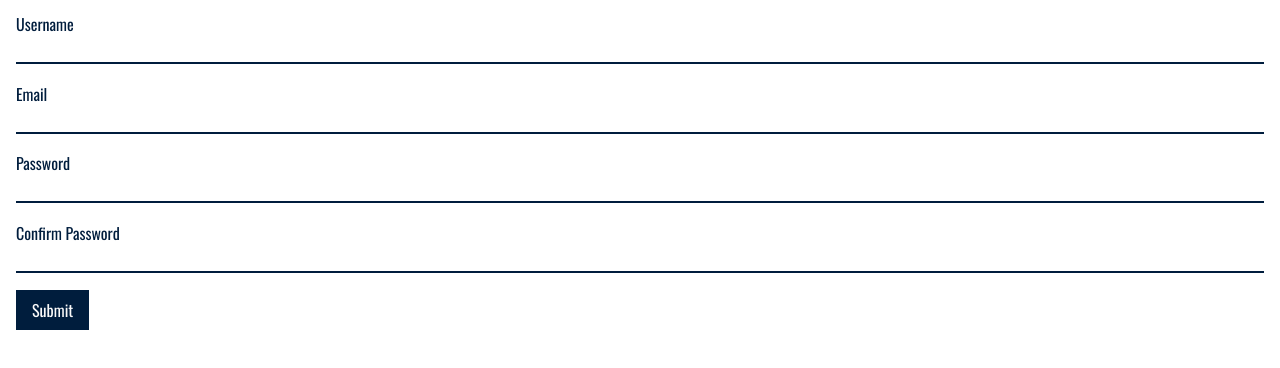
Test: Register Form › should display an error message for a username longer than 30 characters
Type "UserName1UserName1UserName1UserName1" into the field labelled "Username". click: coordinates (640, 51)
box: left=16, top=37, right=1264, bottom=64
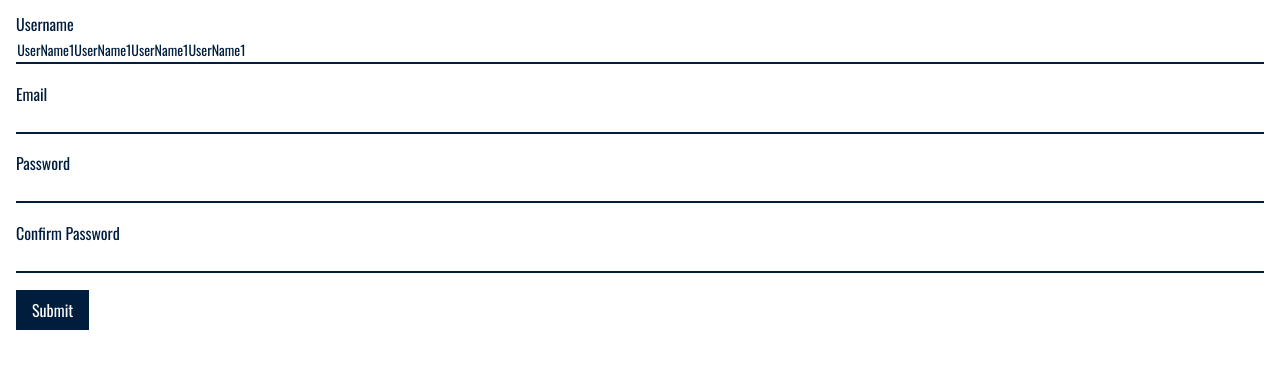
Type "a@a.pl" into the field labelled "Email". click: coordinates (640, 120)
box: left=16, top=107, right=1264, bottom=134
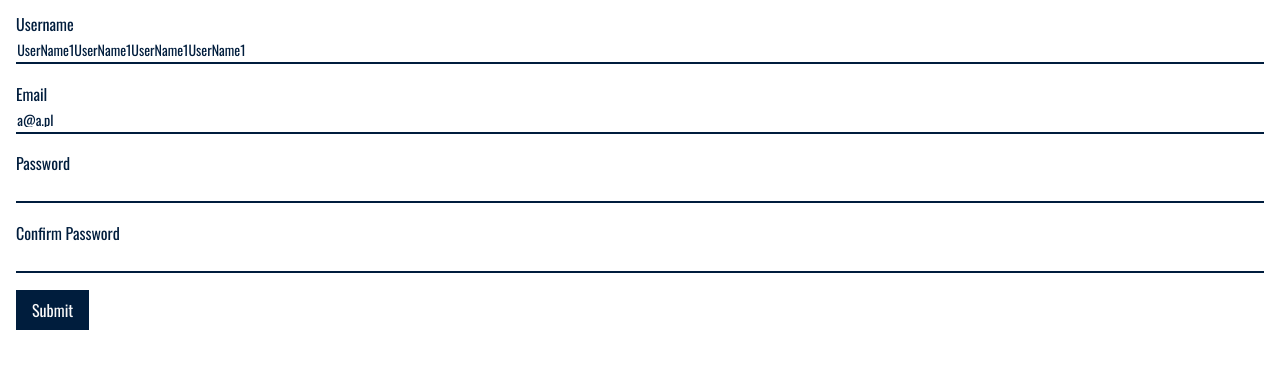
Type "Pa$$w0rd" into the password field labelled "Password". click: coordinates (640, 190)
box: left=16, top=176, right=1264, bottom=203
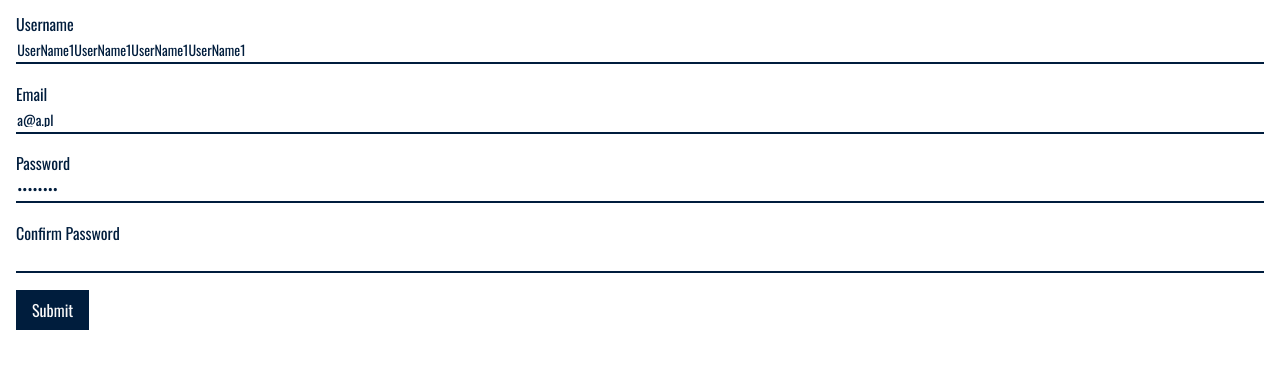
Type "Pa$$w0rd" into the password field labelled "Confirm Password". click: coordinates (640, 259)
box: left=16, top=246, right=1264, bottom=273
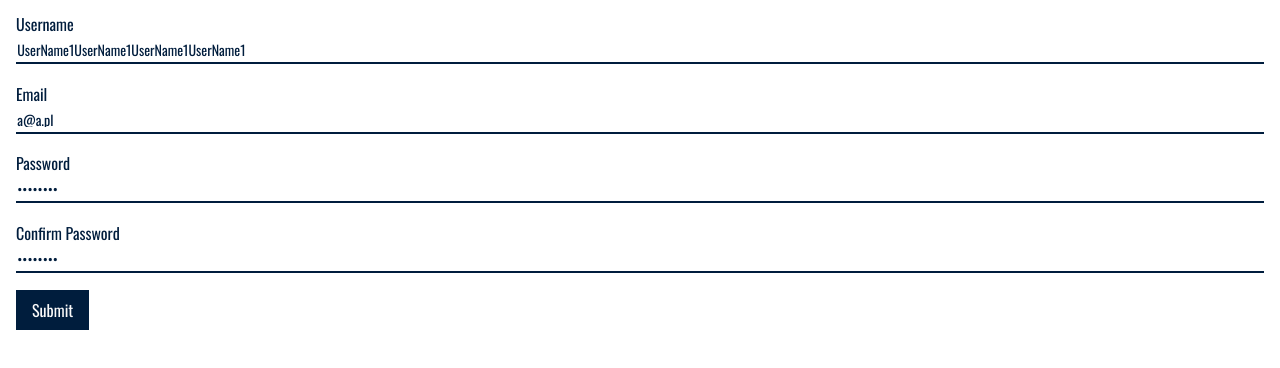
Click the button "Submit". click: coordinates (53, 310)
box: left=16, top=290, right=89, bottom=330
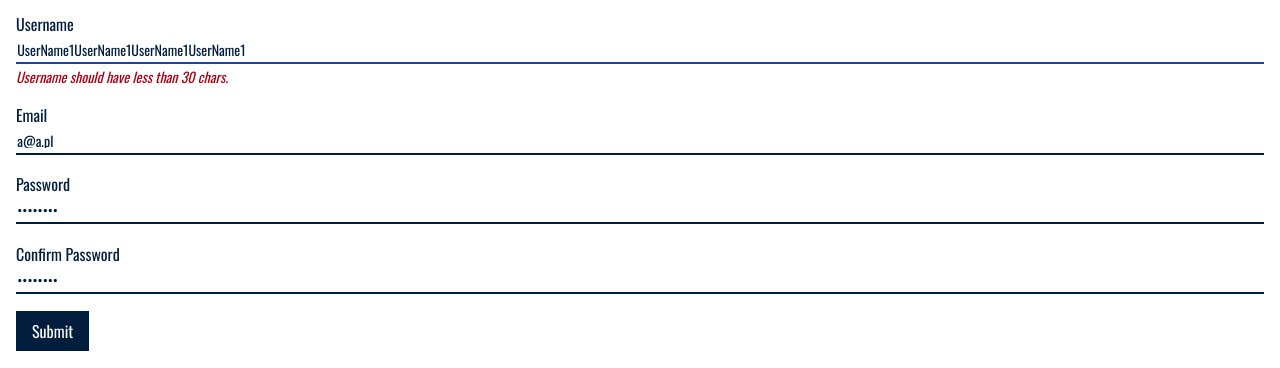
Expected: the text "Username should have less than 30 chars." is shown, left=16, top=66, right=228, bottom=86
